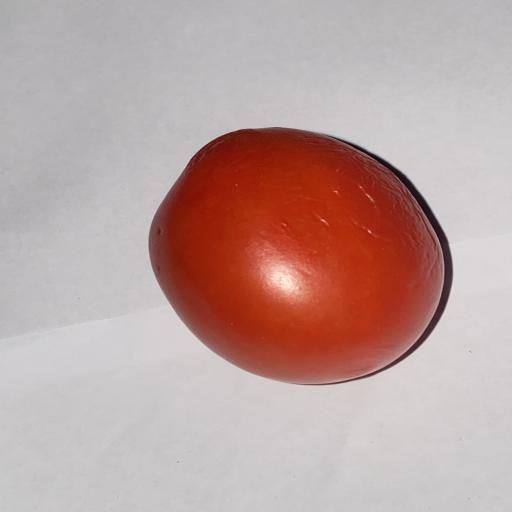overipe: (149, 128, 444, 383)
